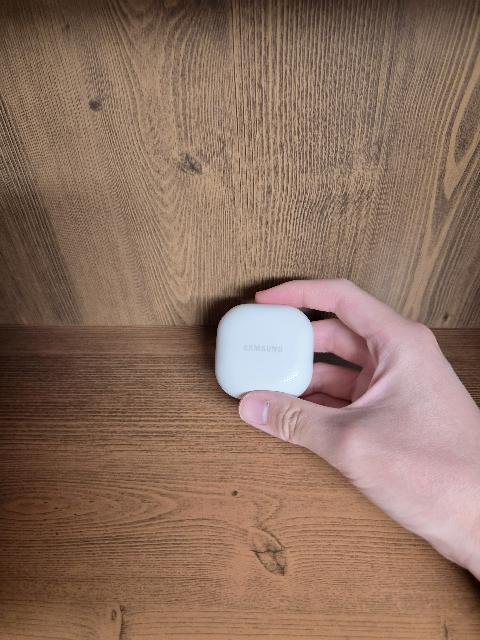earphone_case: (214, 303, 314, 400)
